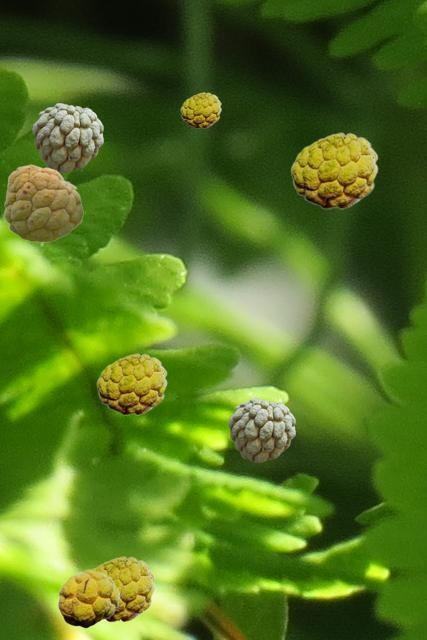atis: (290, 132, 377, 208), (3, 164, 82, 241), (32, 103, 102, 171), (96, 353, 166, 414), (228, 398, 294, 461), (92, 556, 154, 621), (57, 569, 119, 627), (180, 92, 220, 127)
